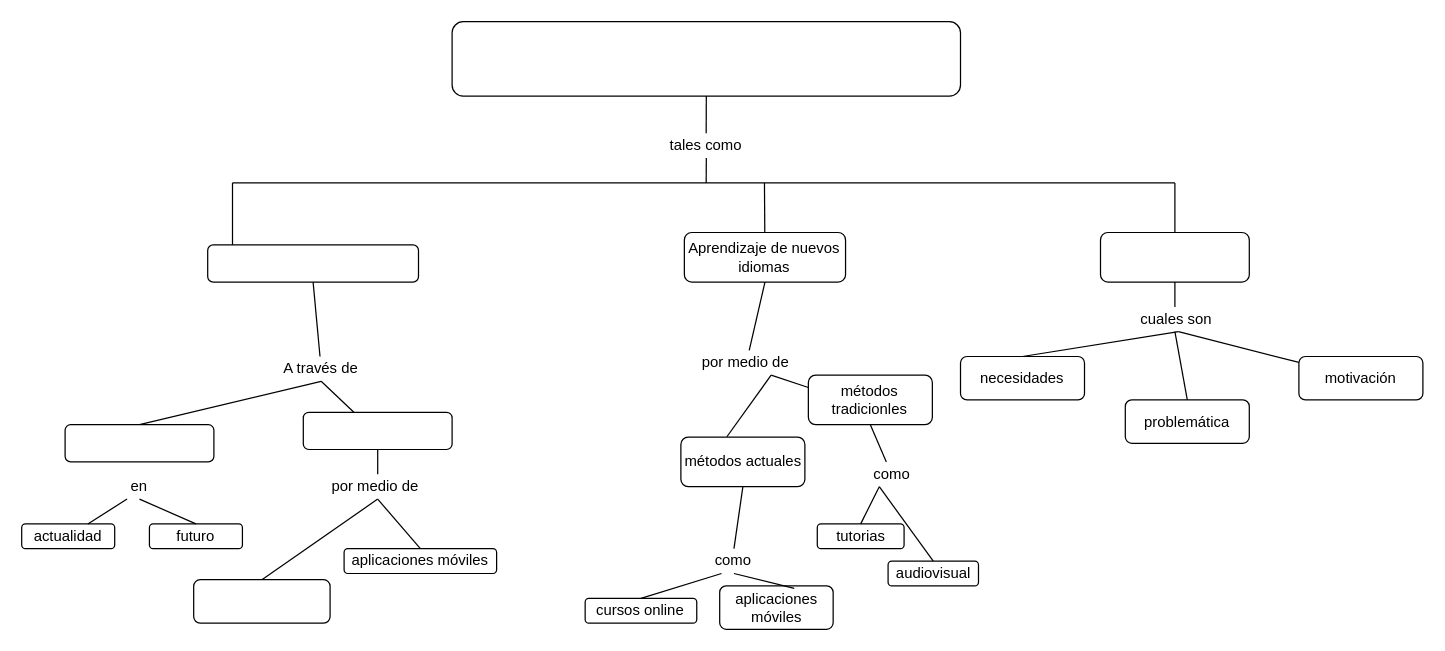
Image size: 1445x651. Some labels were removed from this diagram. Here are the shapes that lost their labels. From the top down, the centre of each, then its label:
At (706,58): "Efectos de la inteligencia artificial en el aprendizaje de idiomas".
At (312,263): "Inteligencia Artificial".
At (1174,256): "Personas en aprender Idiomas".
At (139,442): "comunicación".
At (377,430): "traducción de idiomas".
At (261,600): "herramientas en tiempo real".
